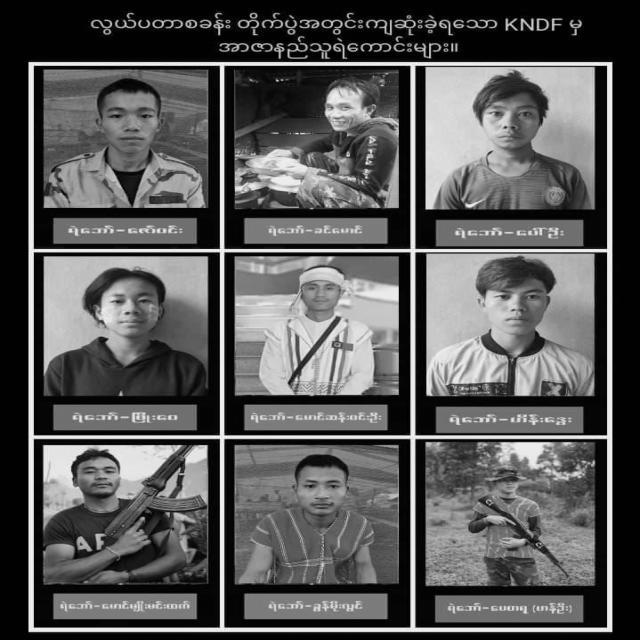gun: (90, 444, 206, 582), (469, 490, 573, 581)
